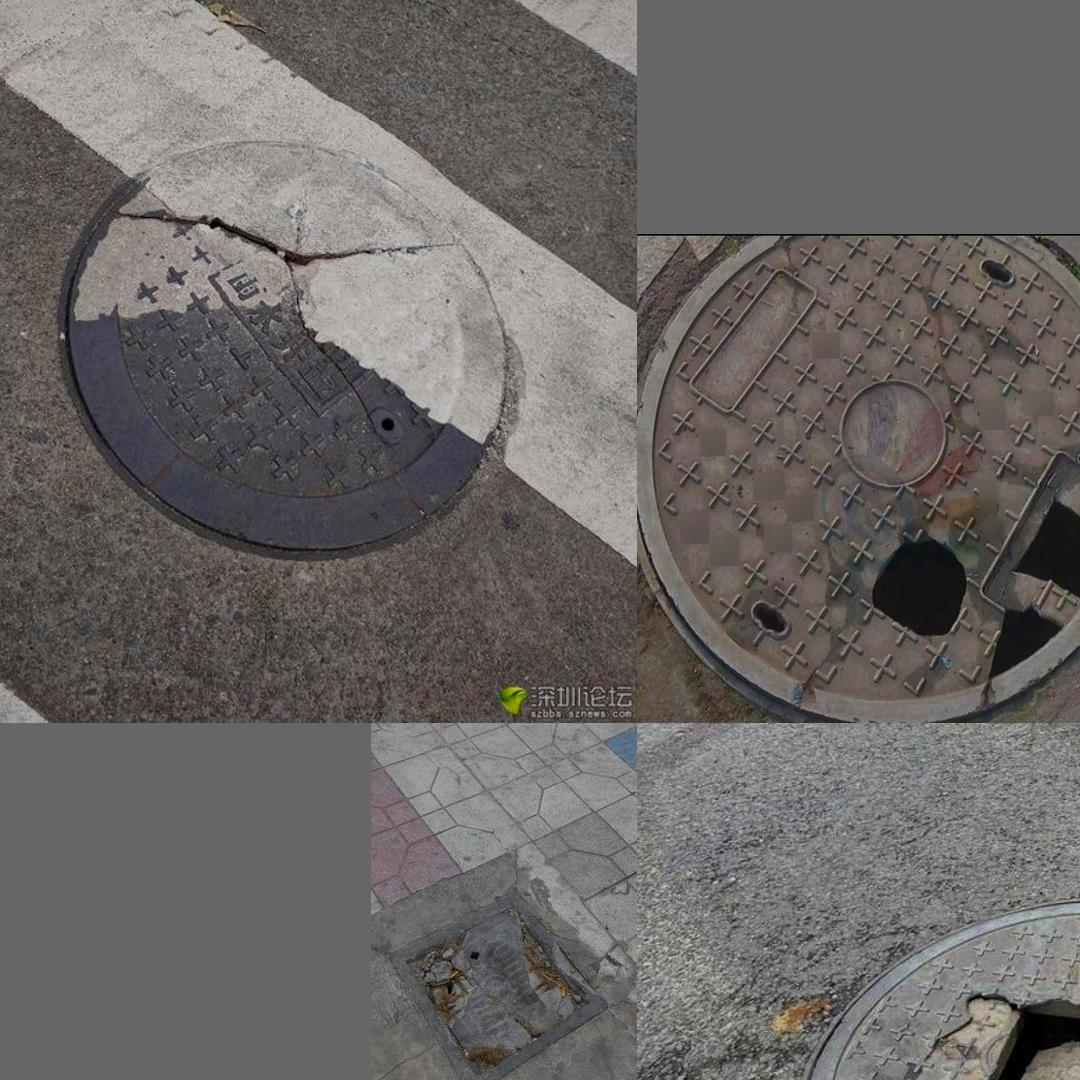broke: (31, 115, 544, 562), (651, 234, 1080, 707), (742, 890, 1080, 1080), (387, 886, 618, 1080)
